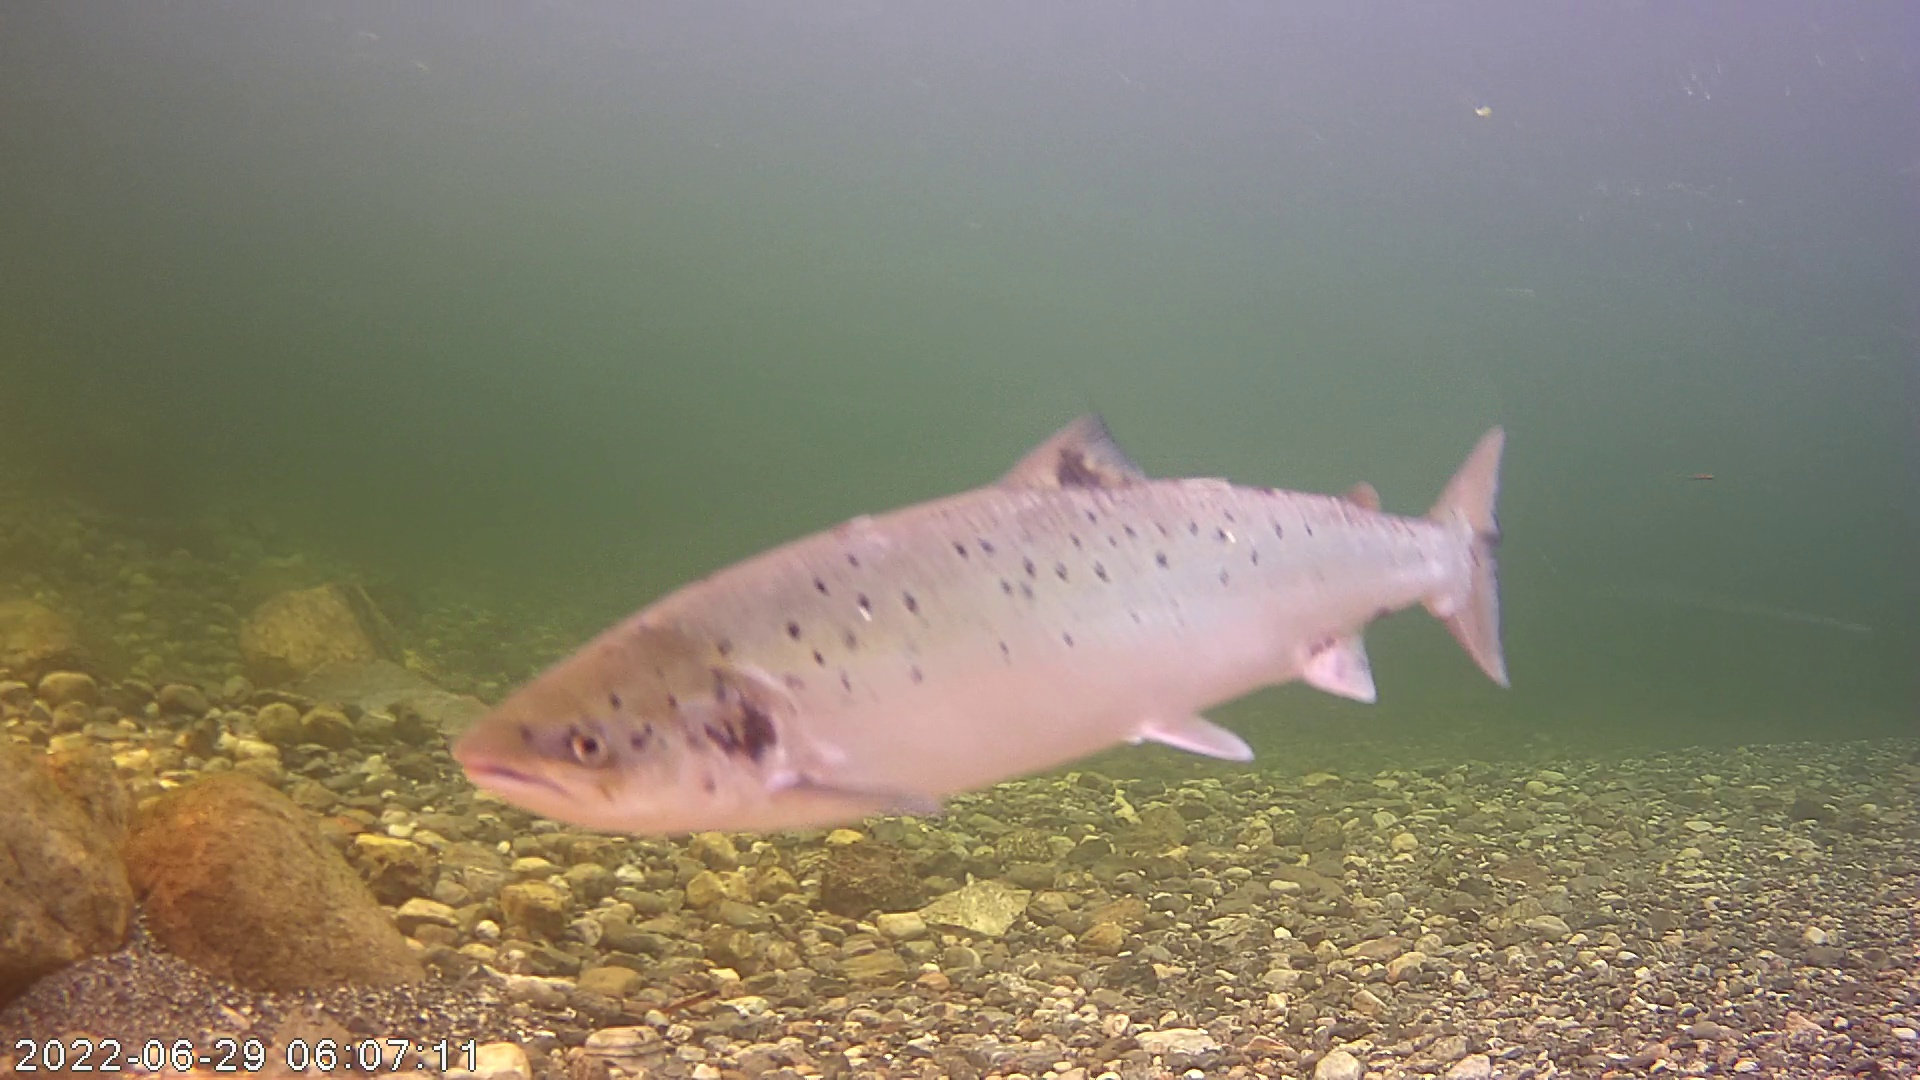salmon: (476, 339, 1509, 822)
